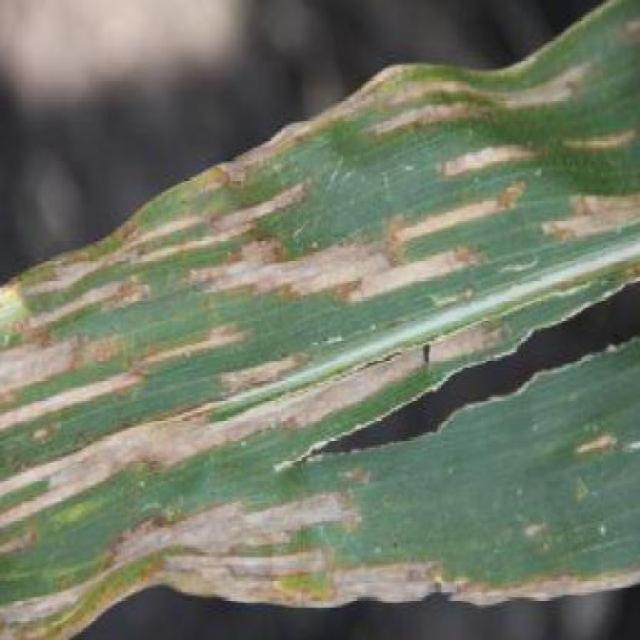Corn_Grey_Leaf_Spot: (0, 28, 640, 614)
